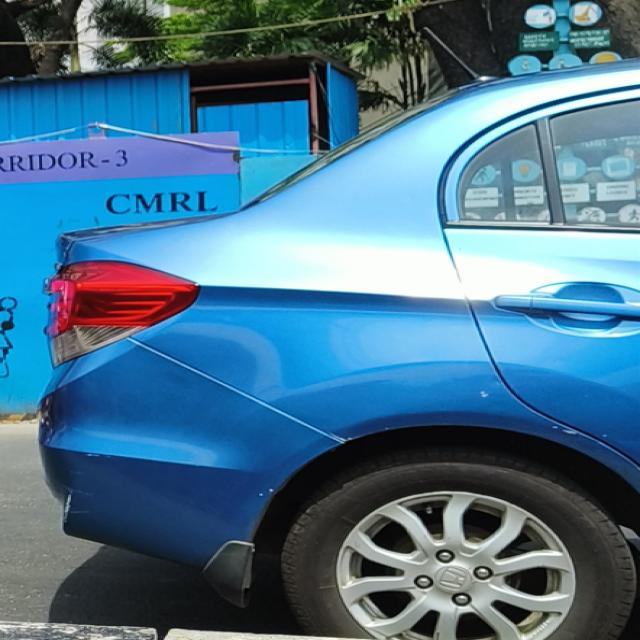scratch: (546, 419, 628, 443), (320, 426, 390, 442), (240, 481, 284, 505), (465, 384, 504, 408)
